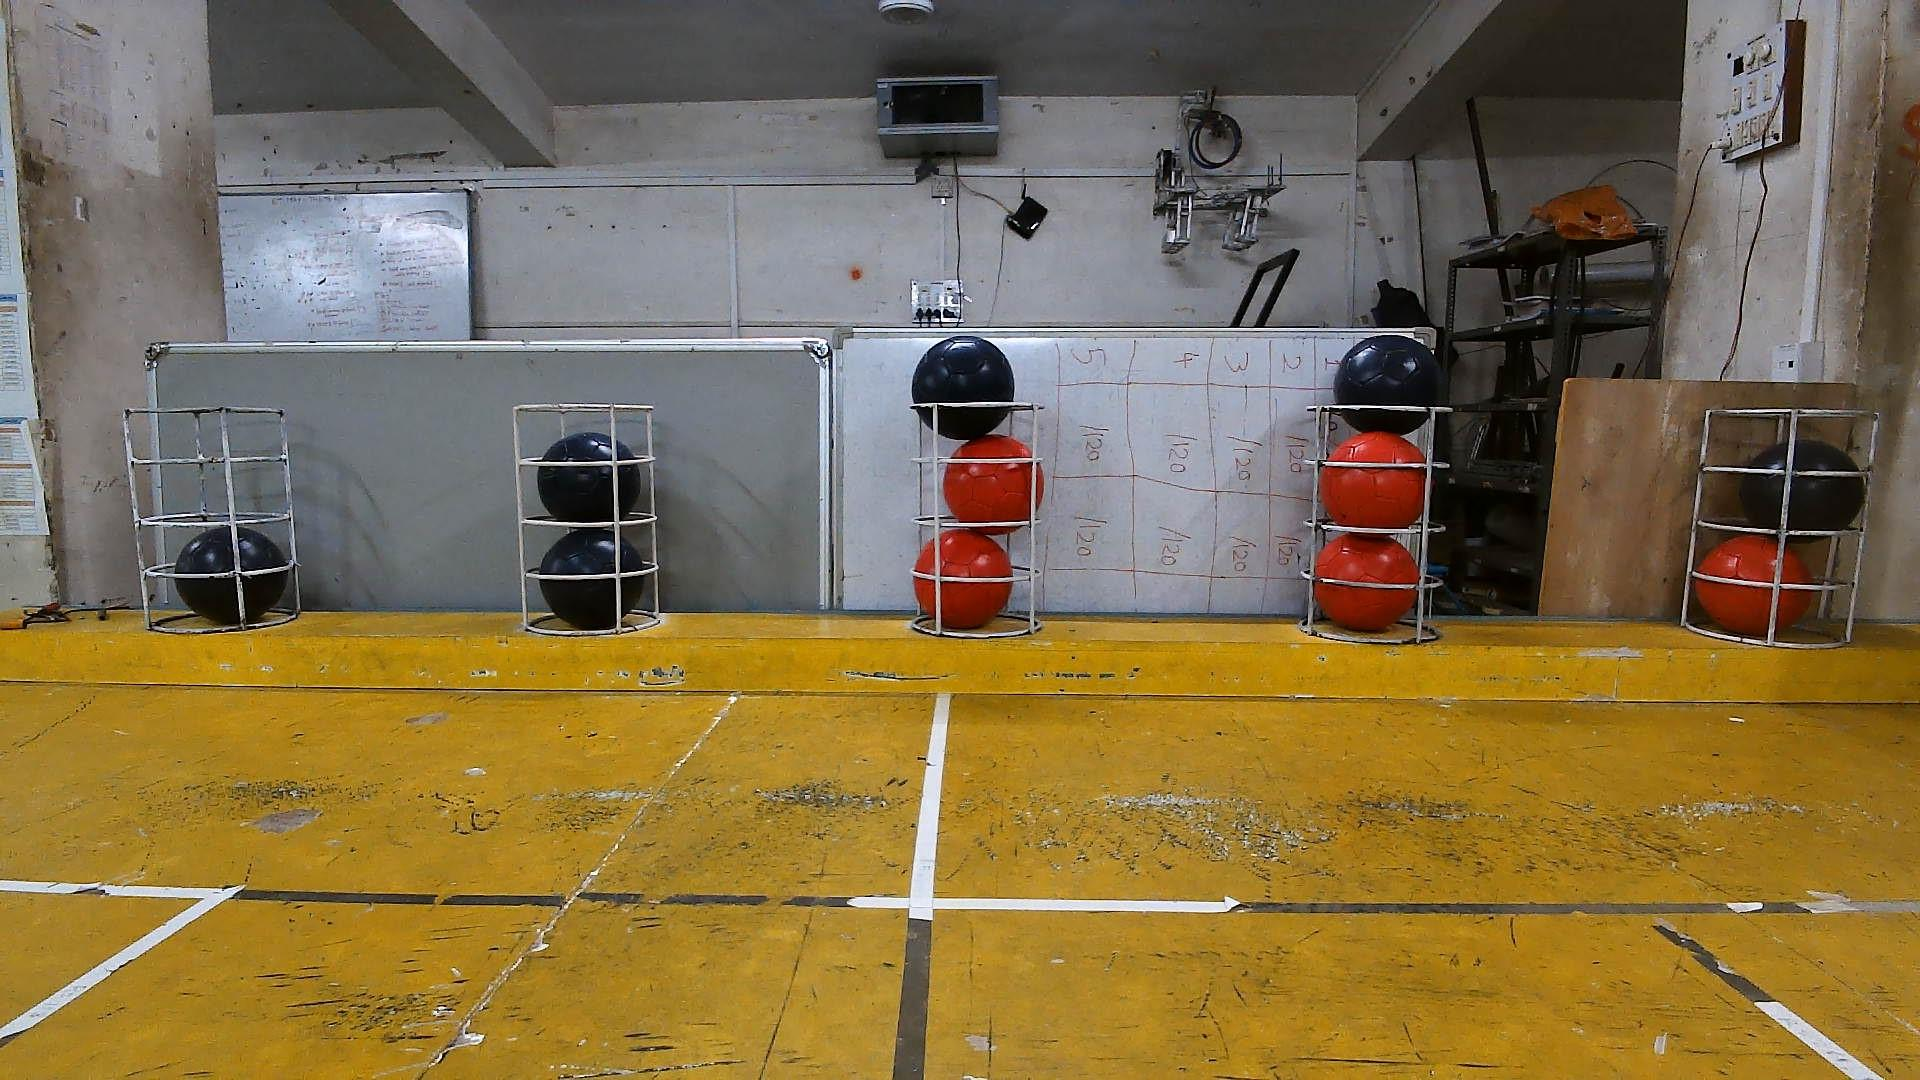dhoka: (1741, 439, 1867, 543), (173, 525, 289, 626), (911, 334, 1017, 443), (1332, 334, 1440, 435), (541, 529, 645, 630), (537, 431, 641, 521)
laale: (1692, 533, 1815, 637), (1324, 431, 1436, 529), (942, 431, 1046, 533), (915, 529, 1013, 630), (1316, 533, 1418, 630)
